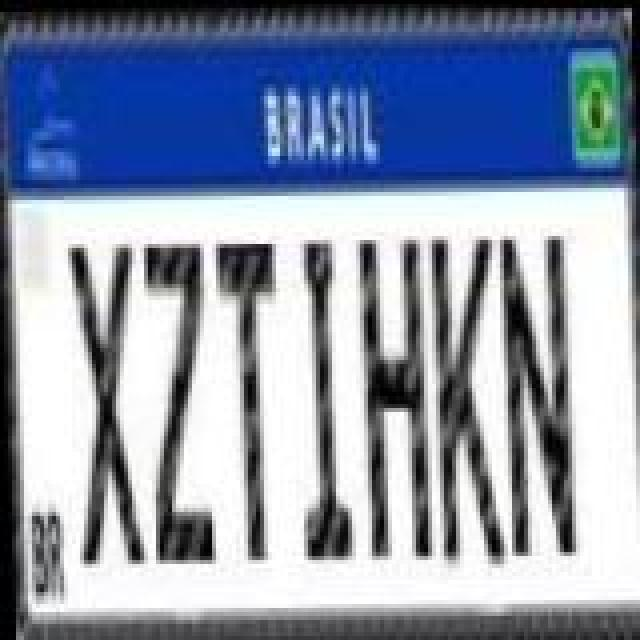H: (354, 230, 430, 558)
I: (290, 228, 350, 564)
K: (424, 224, 504, 564)
N: (492, 226, 572, 554)
T: (212, 234, 284, 558)
X: (64, 238, 144, 566)
Z: (140, 238, 212, 562)
